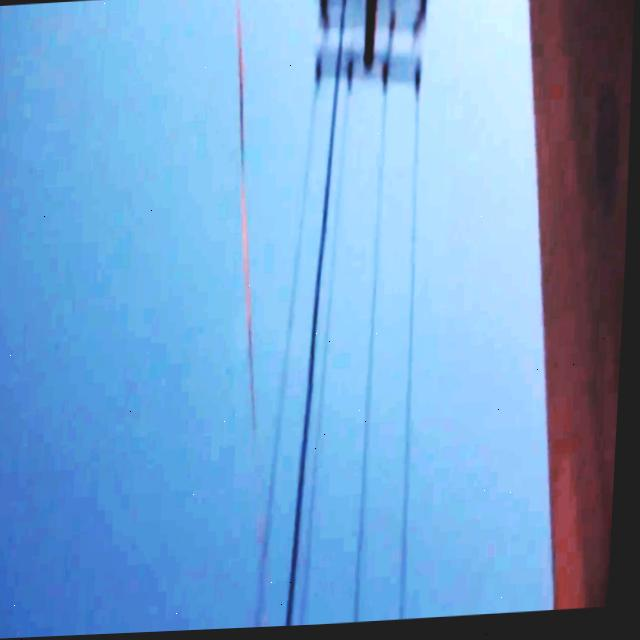poles: (315, 0, 429, 94)
wires: (292, 0, 345, 629), (262, 79, 322, 630), (303, 89, 351, 628), (360, 86, 388, 625), (404, 85, 422, 623)
